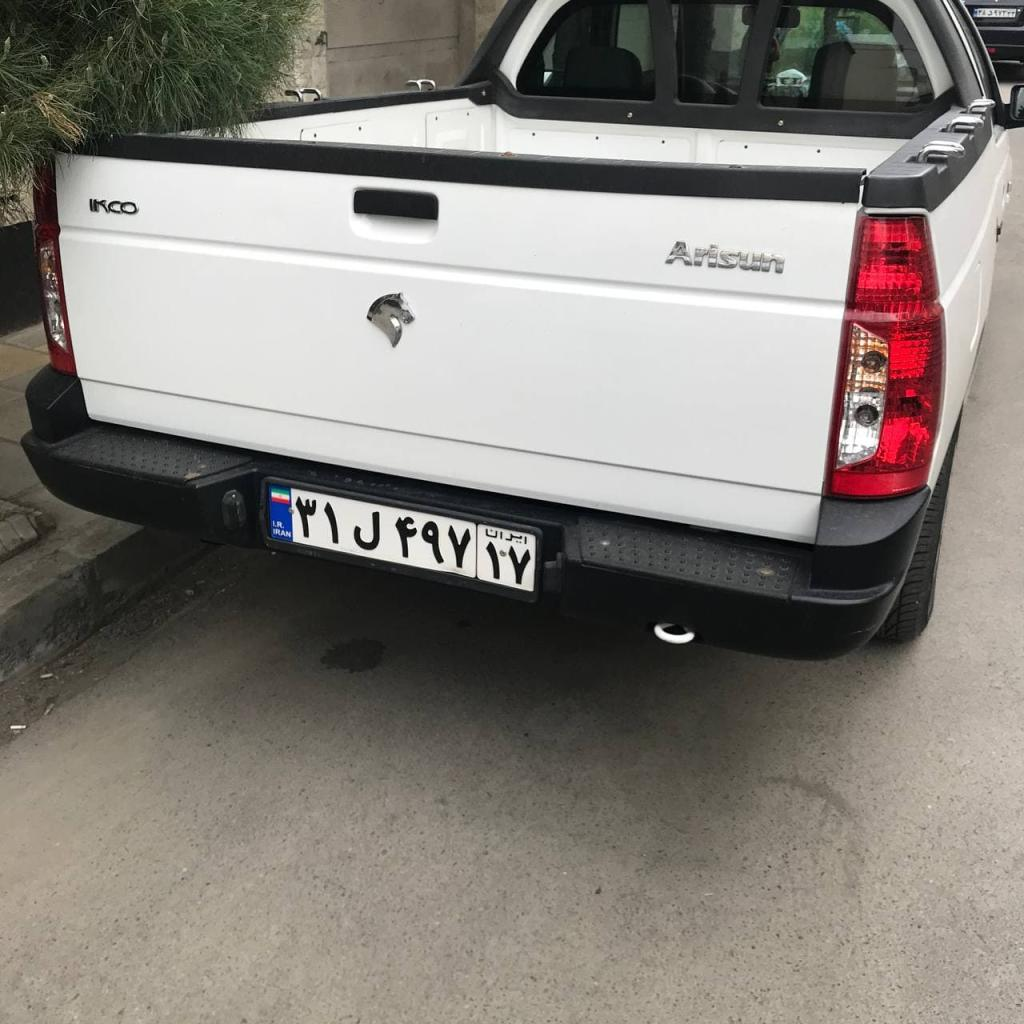Plates: (268, 484, 536, 592)
